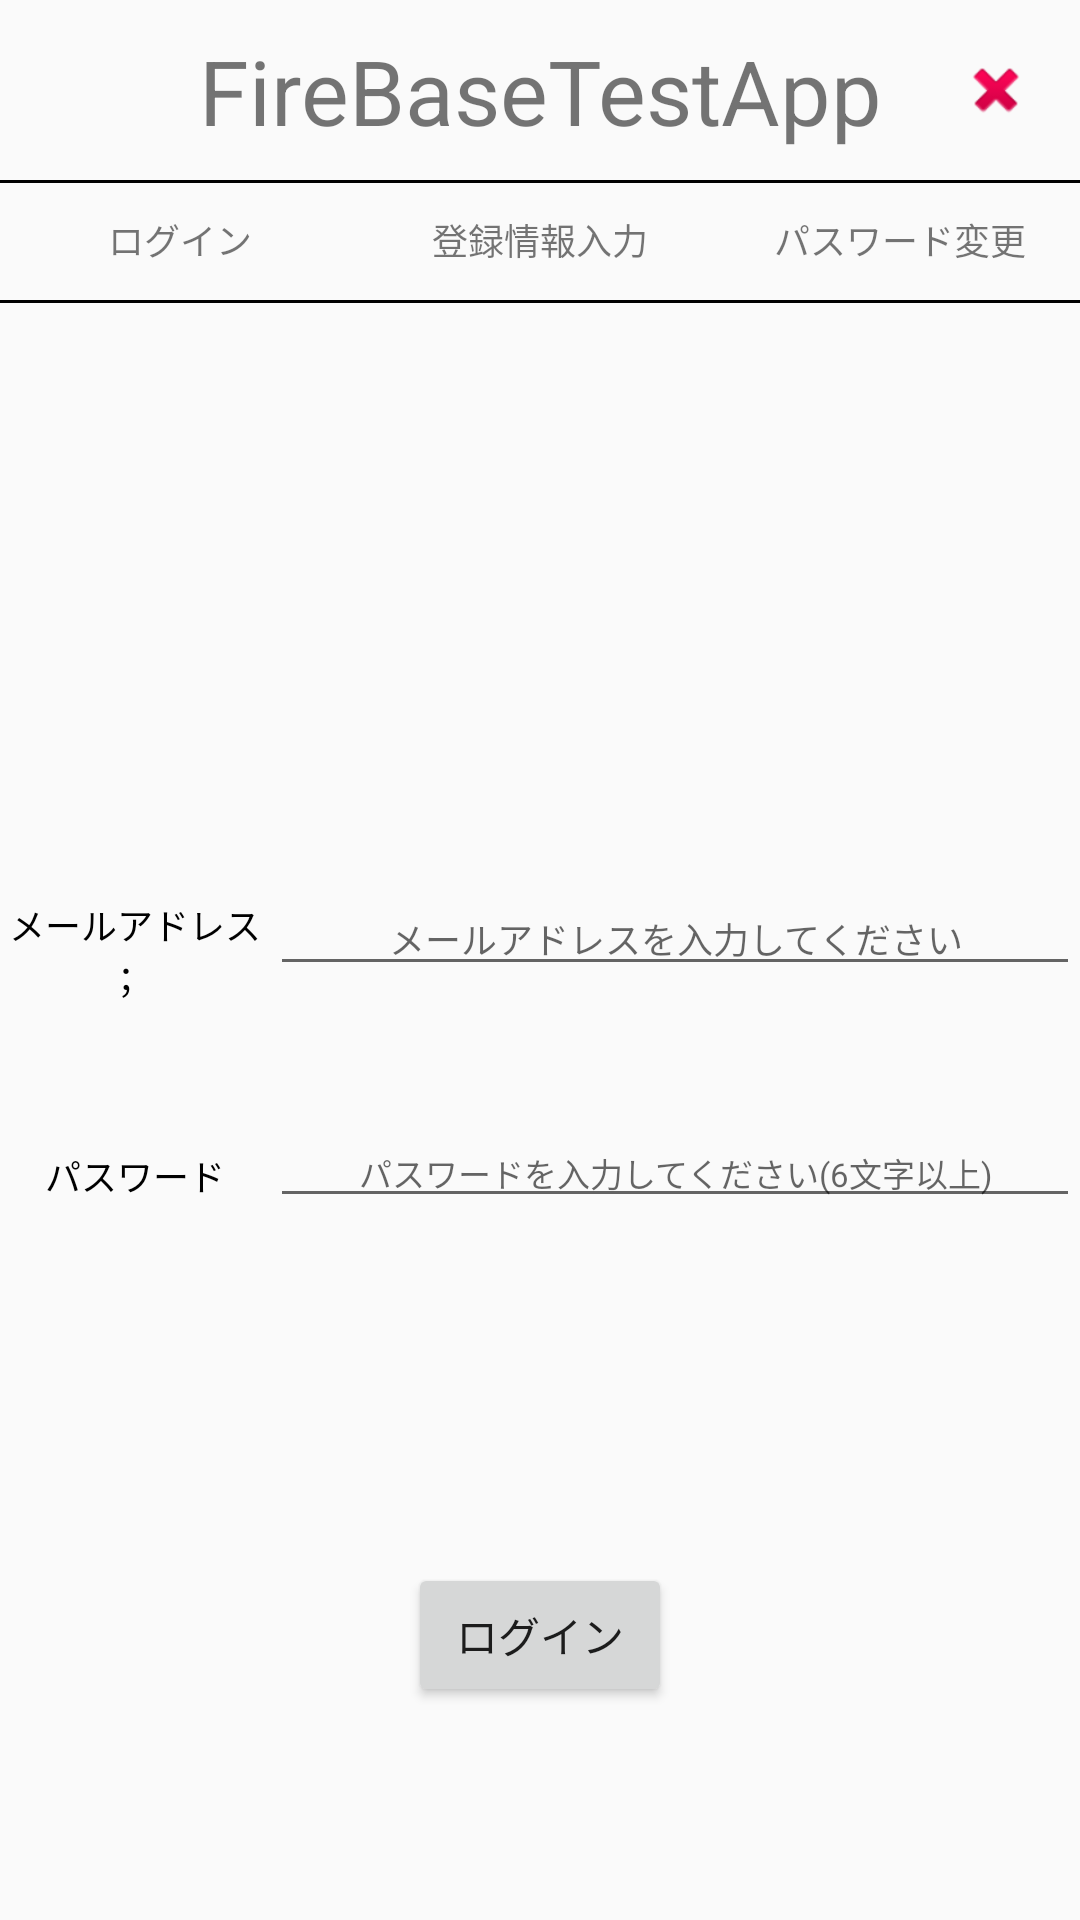

Icon bounding boxes for this 1080px x 1920px phone screenshot, format [left=x1, top=y1, right=x2, bottom=y2]:
delete: [left=973, top=68, right=1019, bottom=112]
